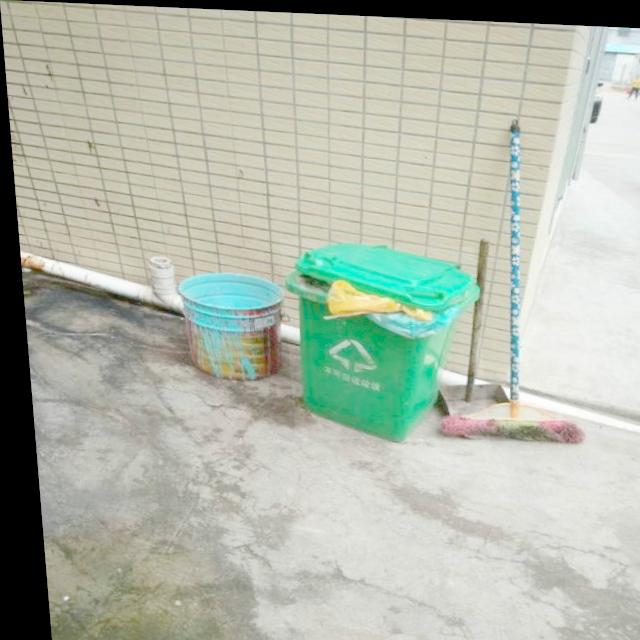overflow: (276, 236, 483, 441)
